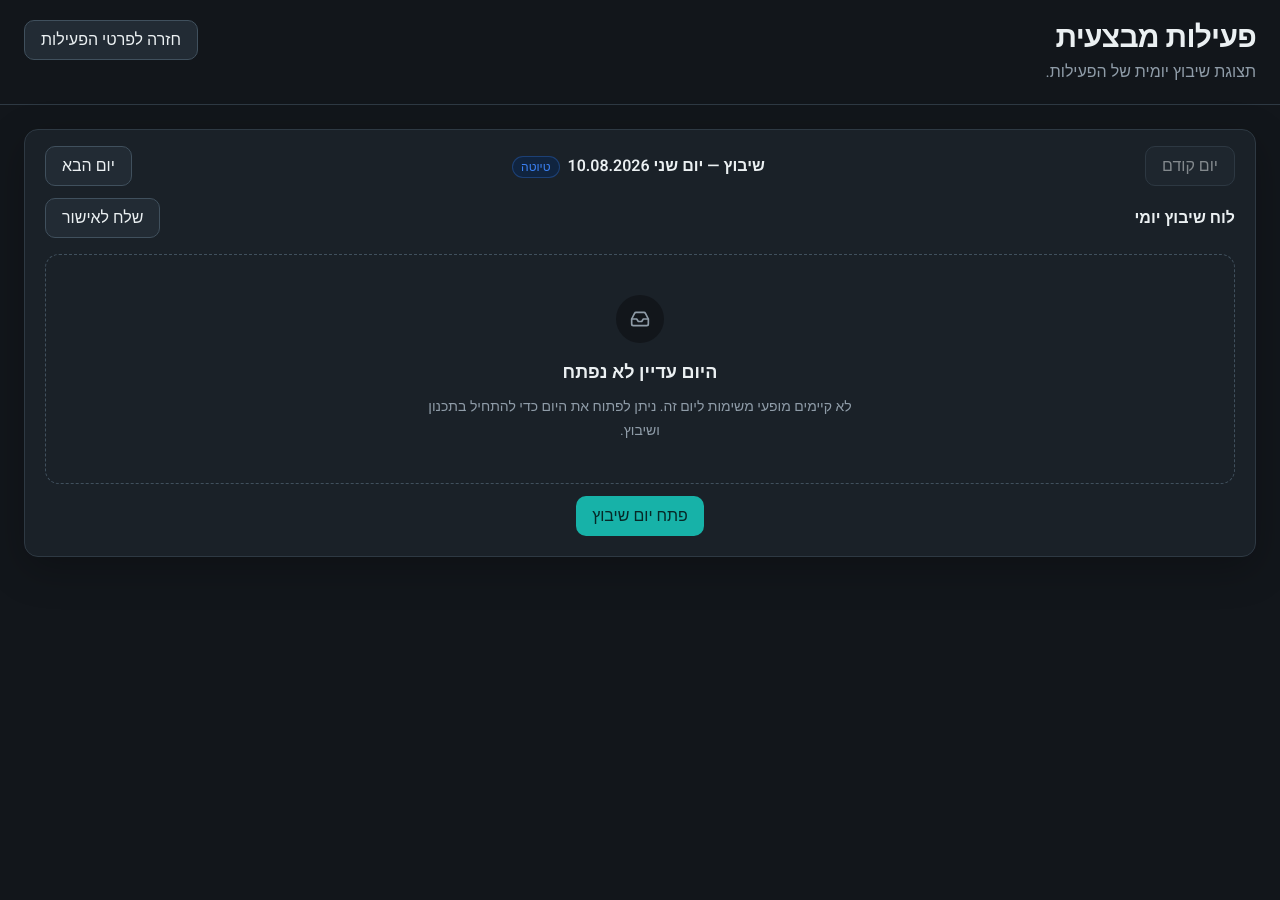
Test: ActivityPlanningPage › keeps overnight instances on the board of their start day
Click the button "יום הבא": {"x": 88, "y": 166} [45,146,132,186]
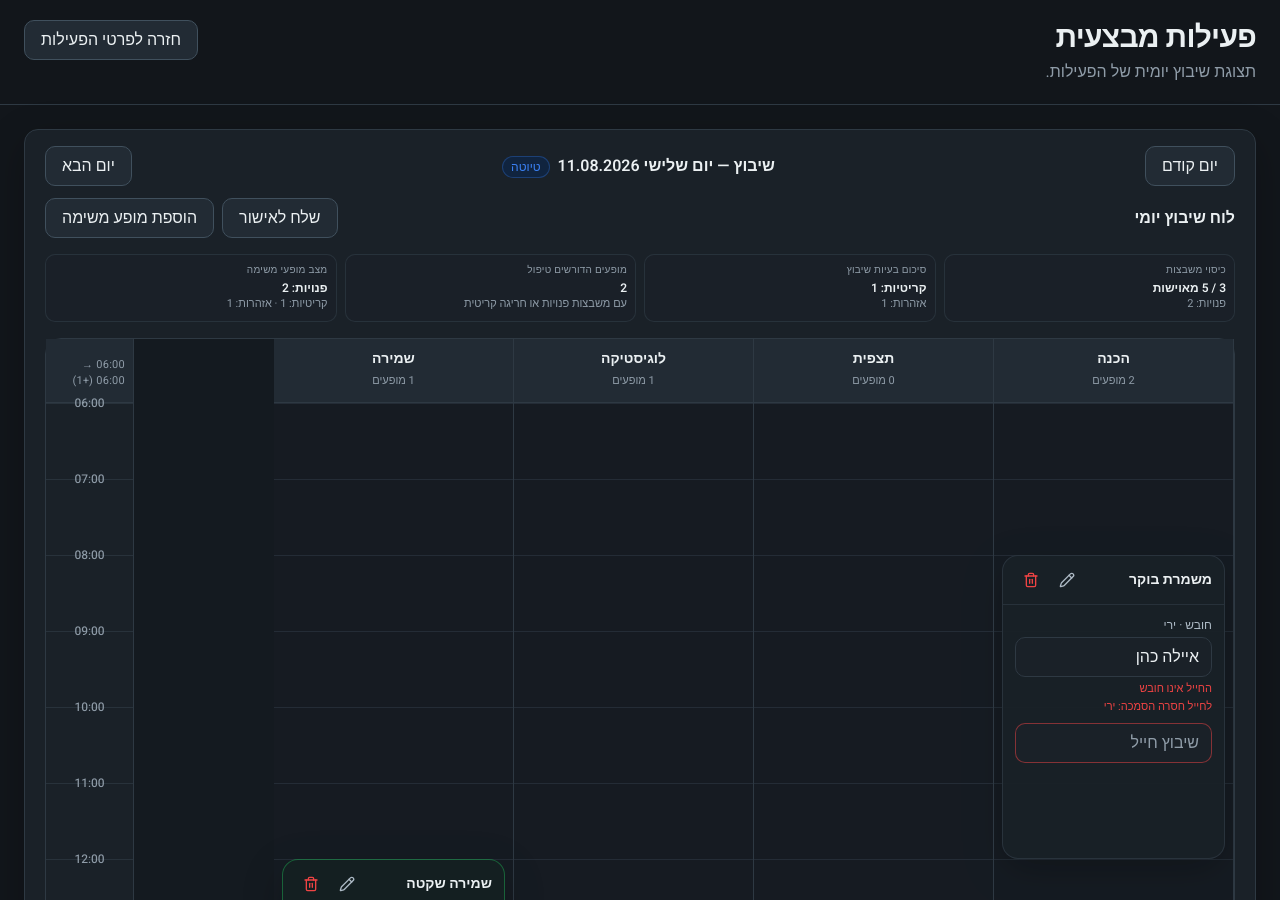
Click the button "יום הבא": {"x": 88, "y": 166} [45,146,132,186]
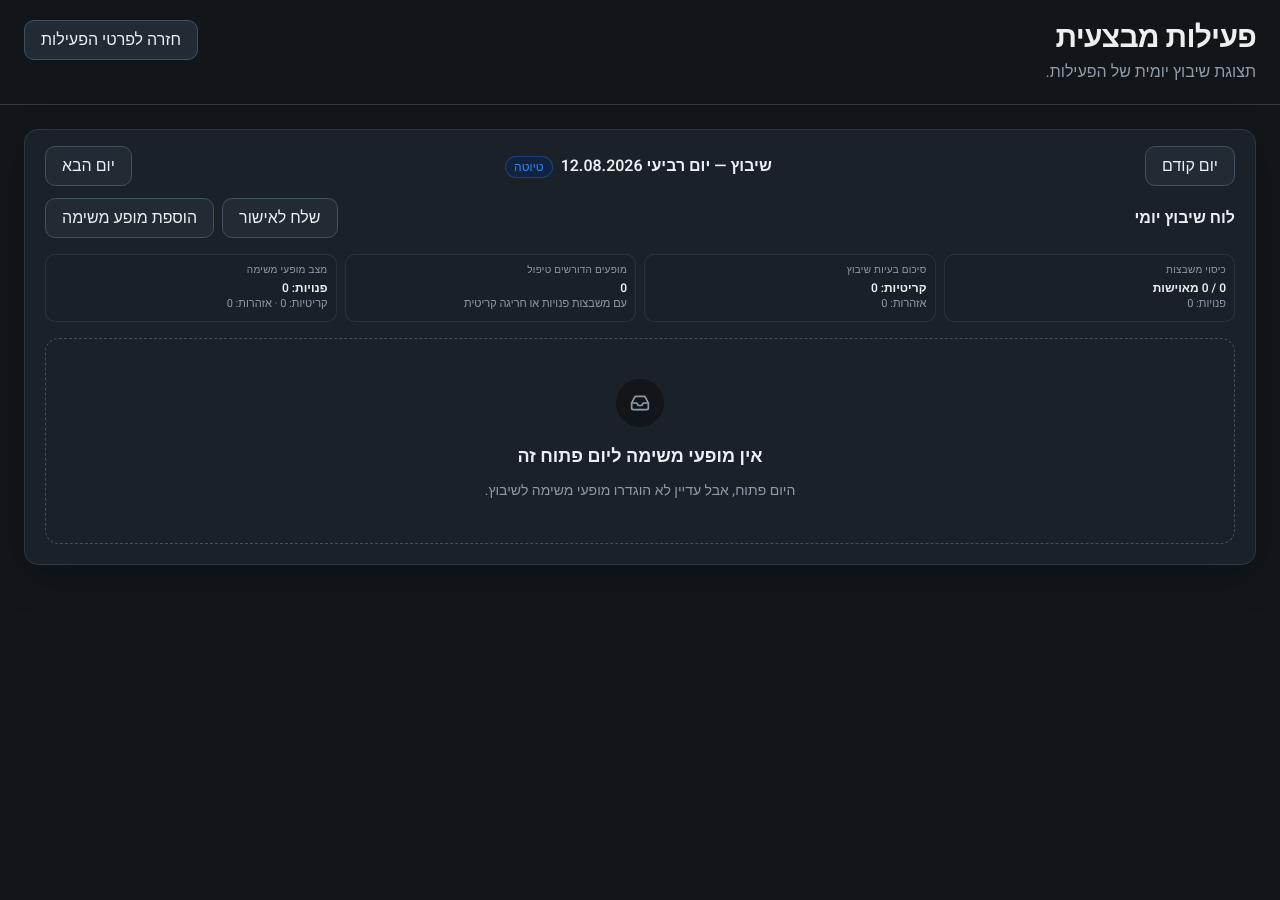
Now the heading "אין מופעי משימה ליום פתוח זה" is shown, box [517,442,763,470]
